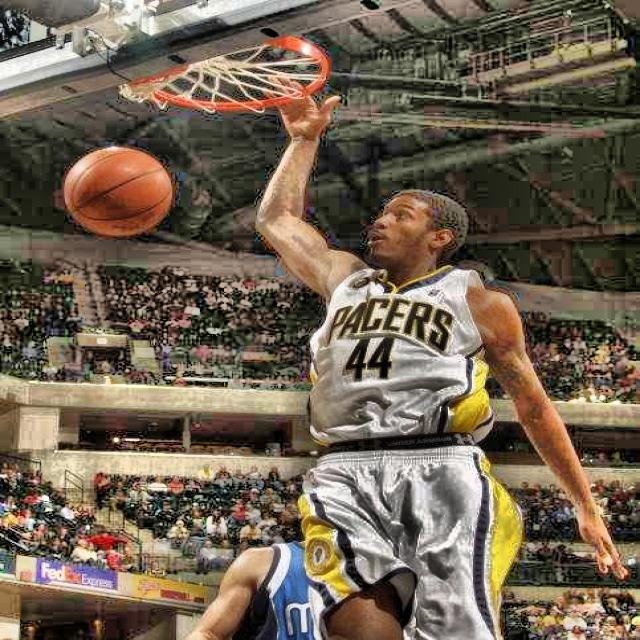board: (63, 146, 174, 238)
